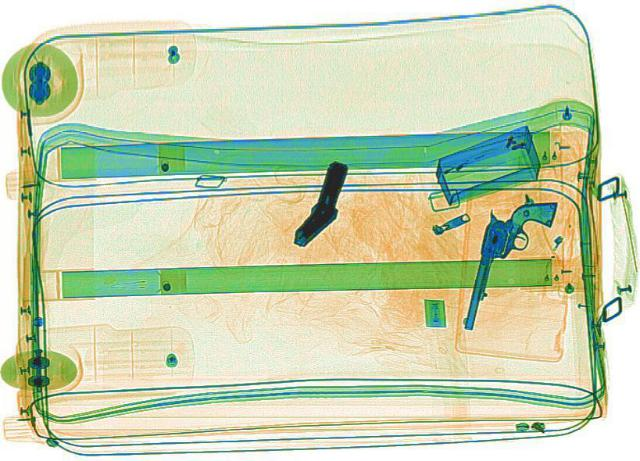Gun: (457, 193, 557, 336), (287, 159, 359, 250)
